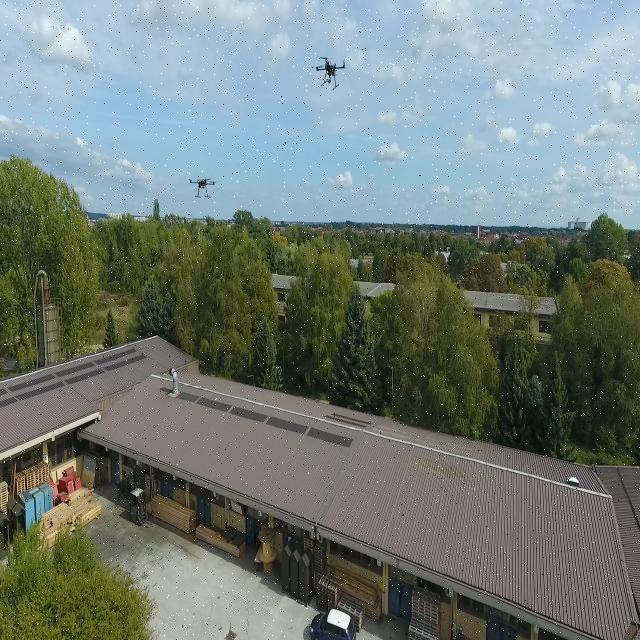UAV: (310, 51, 350, 92), (184, 173, 224, 203)
